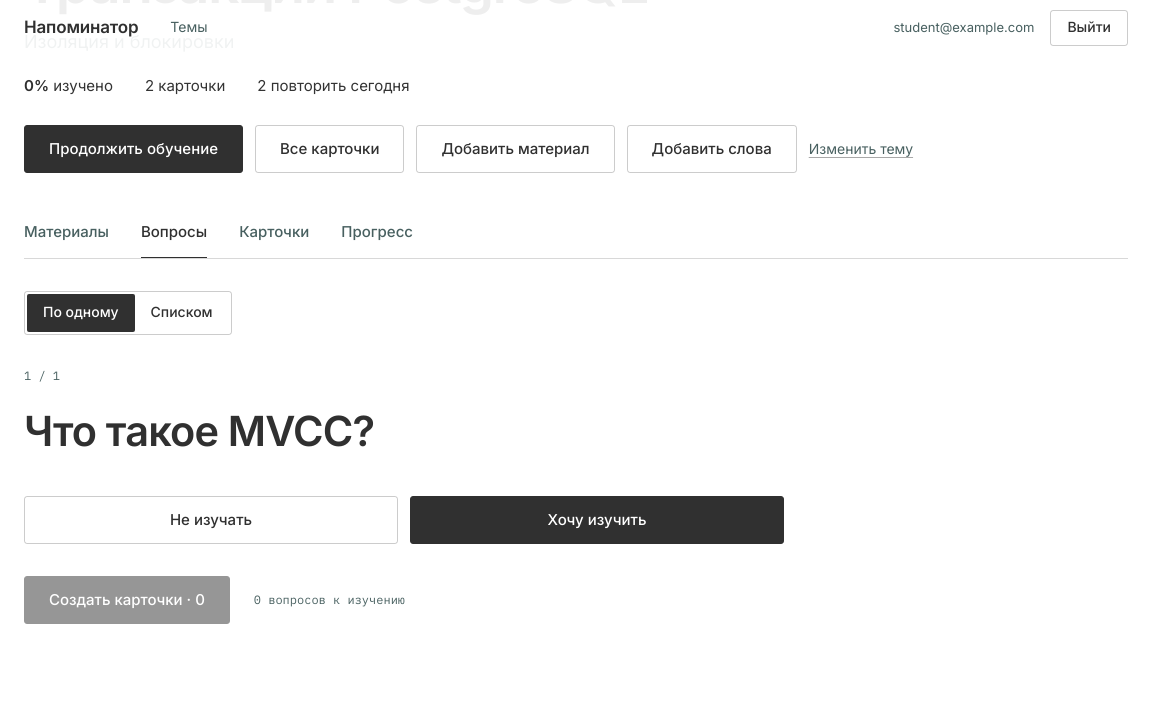
Test: Экран вопросов › обещает карточки только после того, как они созданы
(page scrolled)
Click the button "Хочу изучить" at (597, 520), box x1=410 y1=496 x2=784 y2=544
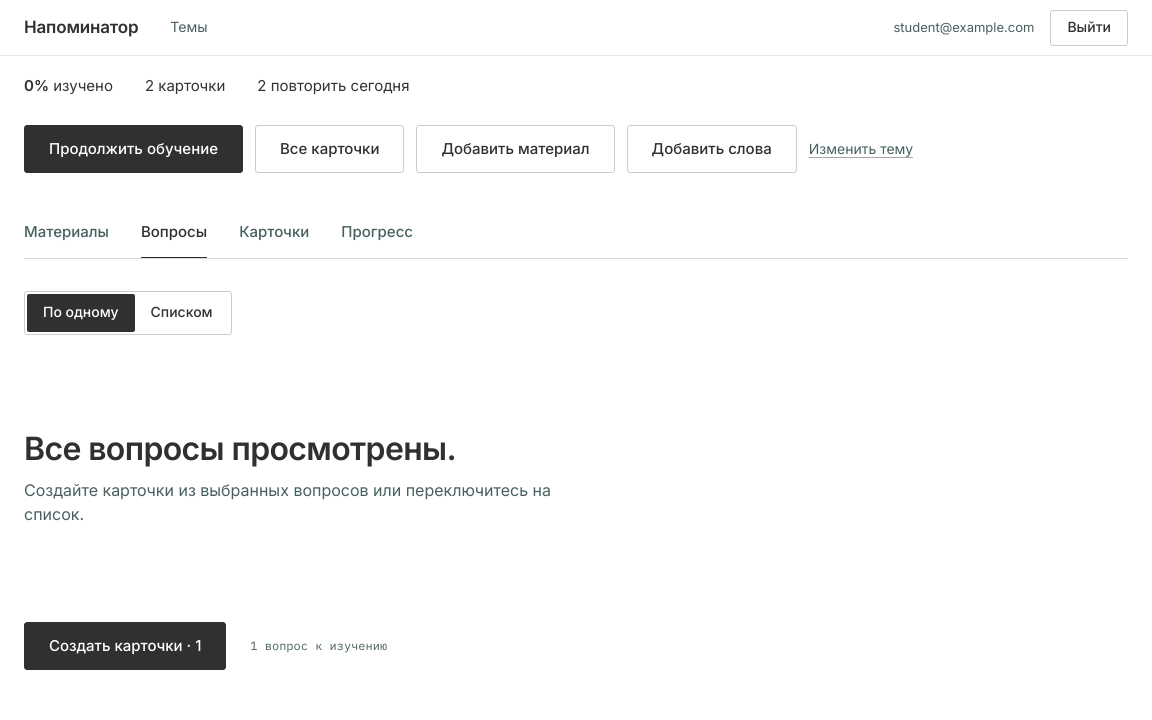
Click the button "Создать карточки · 1" at (125, 646), box x1=24 y1=622 x2=226 y2=670
(page scrolled)
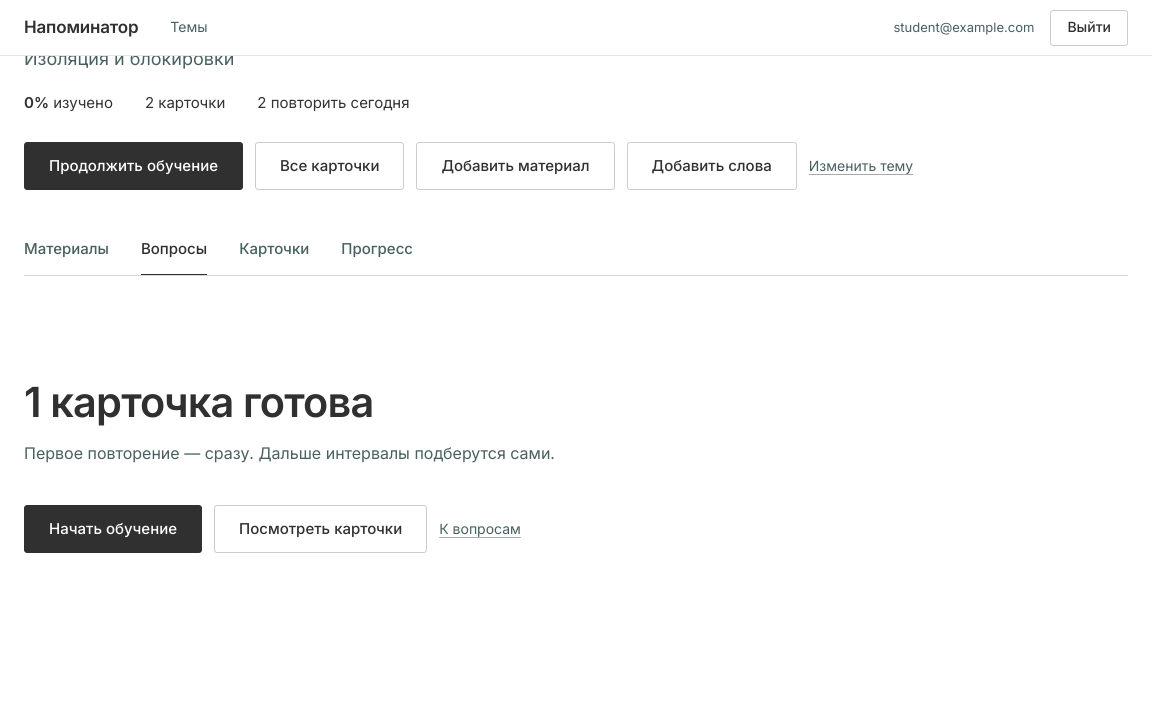
Expected: the heading "1 карточка готова" is shown, x1=24 y1=377 x2=373 y2=427
